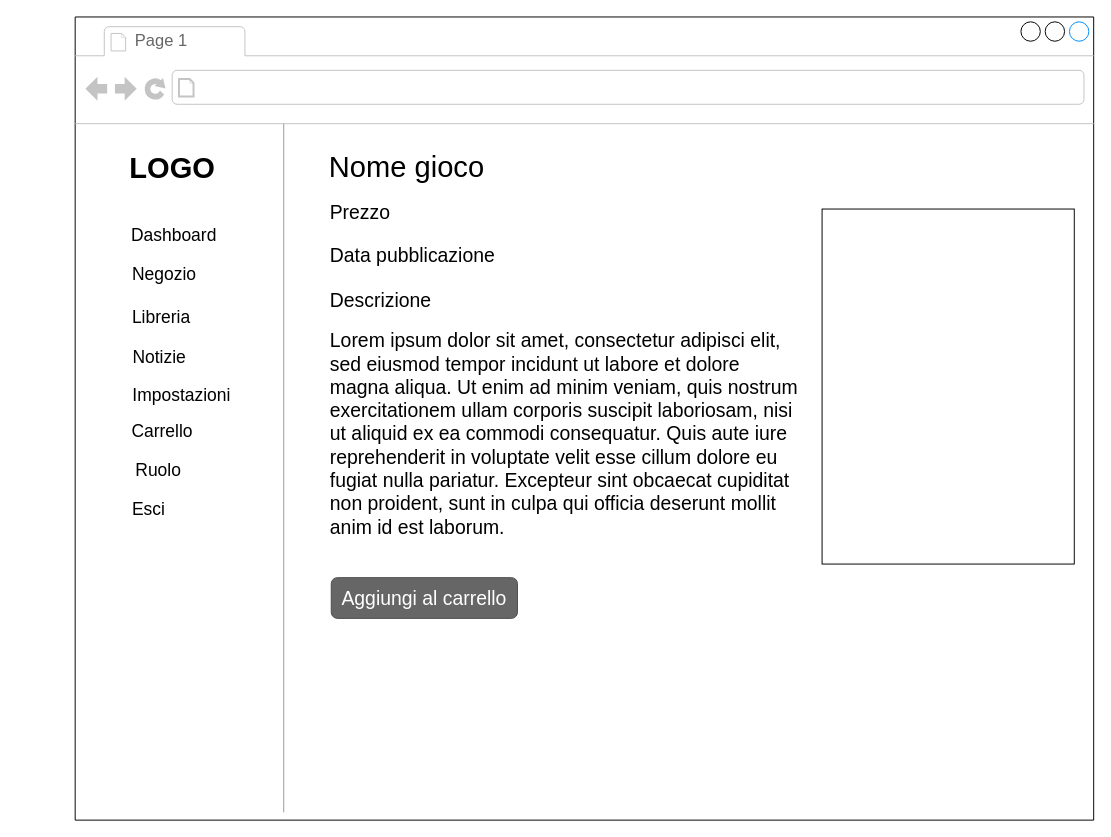
Some shapes in this 1111 by 837 pixel diagram are drawn without their labels. Each missing label, with the centre of its shape:
"Copertina gioco" goes at (x=947, y=386).
"https://www.default.com" goes at (x=322, y=87).
